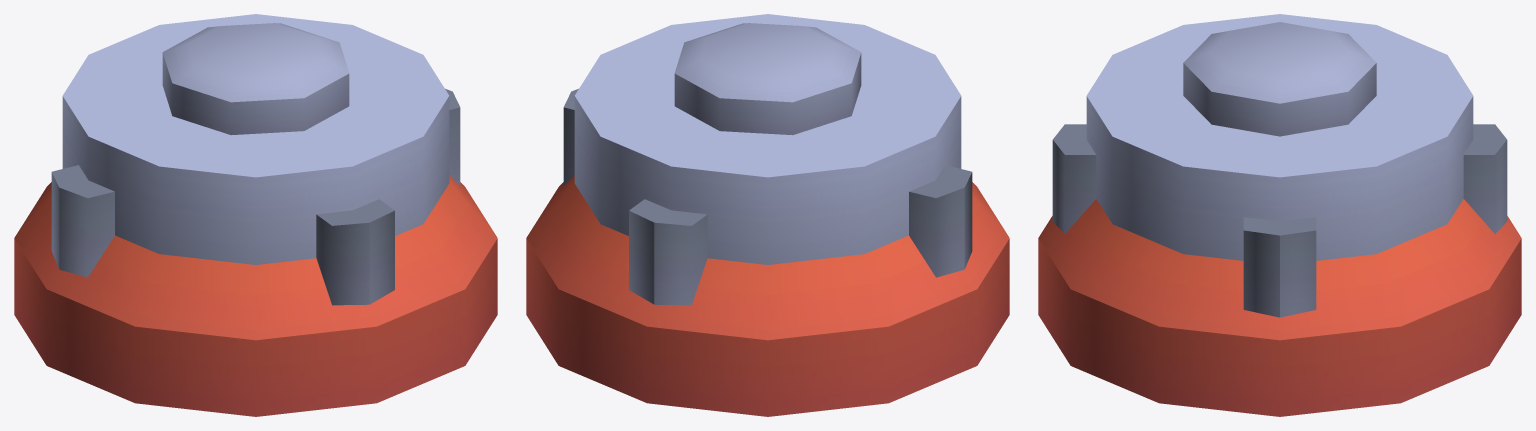
The model's file is kenney-tower-defense-tower-round-bottom-a.glb.
3 renders of one model, left to right at view 1: azimuth 30°, elevation 25°; view 2: azimuth 150°, elevation 25°; view 3: azimuth 270°, elevation 25°, orthographic.
Visible parts, largest first — view 1: tower-round-bottom-a; view 2: tower-round-bottom-a; view 3: tower-round-bottom-a.
Boxes of the visible parts, box(x1,y1,x2,y2) form: tower-round-bottom-a: box(14, 14, 497, 416); tower-round-bottom-a: box(526, 14, 1009, 416); tower-round-bottom-a: box(1038, 14, 1521, 416).
Bounding box in the file's own units: 1 × 0.6001 × 1.
Materials: 1 (1 with a texture image).
